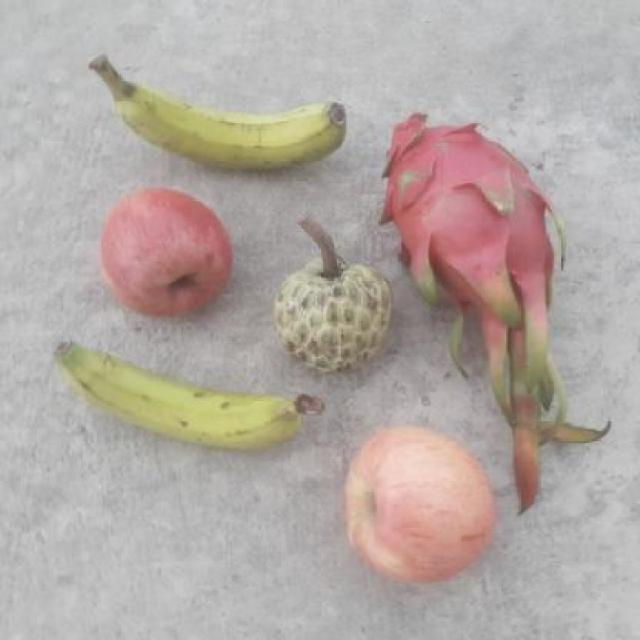apple: (344, 424, 494, 588), (95, 186, 236, 319)
banana: (89, 54, 353, 174), (51, 341, 300, 448)
dragon fruit: (381, 114, 576, 323)
sugar apple: (266, 254, 396, 384)
